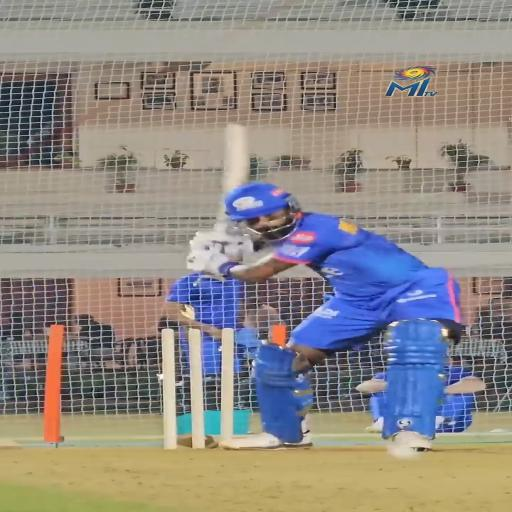Cricket bat: (214, 123, 249, 232)
